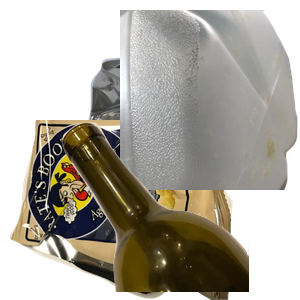glass: (60, 120, 300, 300)
metal: (85, 48, 300, 228)
plastic: (120, 10, 300, 190)
trash: (10, 120, 235, 300)
